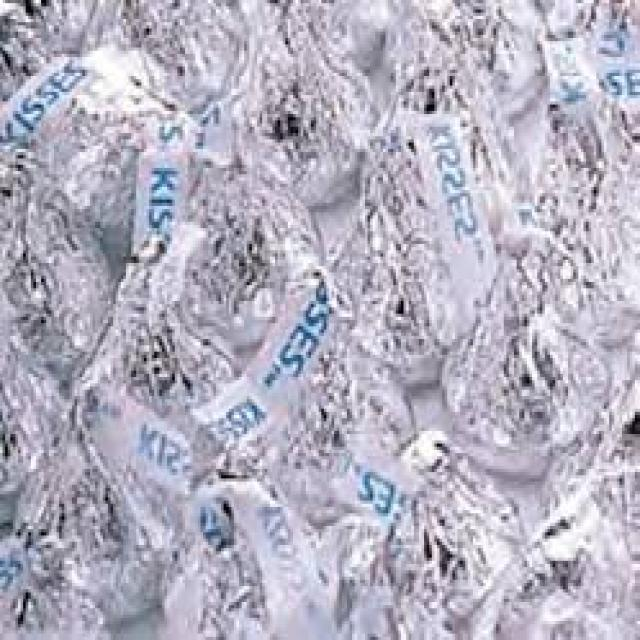kisses: (324, 130, 480, 387), (17, 352, 172, 607), (439, 234, 595, 471), (19, 35, 193, 244), (148, 146, 316, 358), (361, 417, 514, 614), (161, 456, 322, 640)
